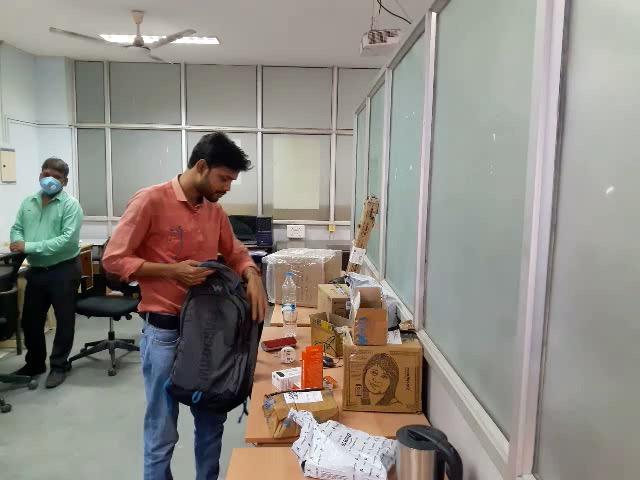shoplifting: (70, 233, 354, 389)
